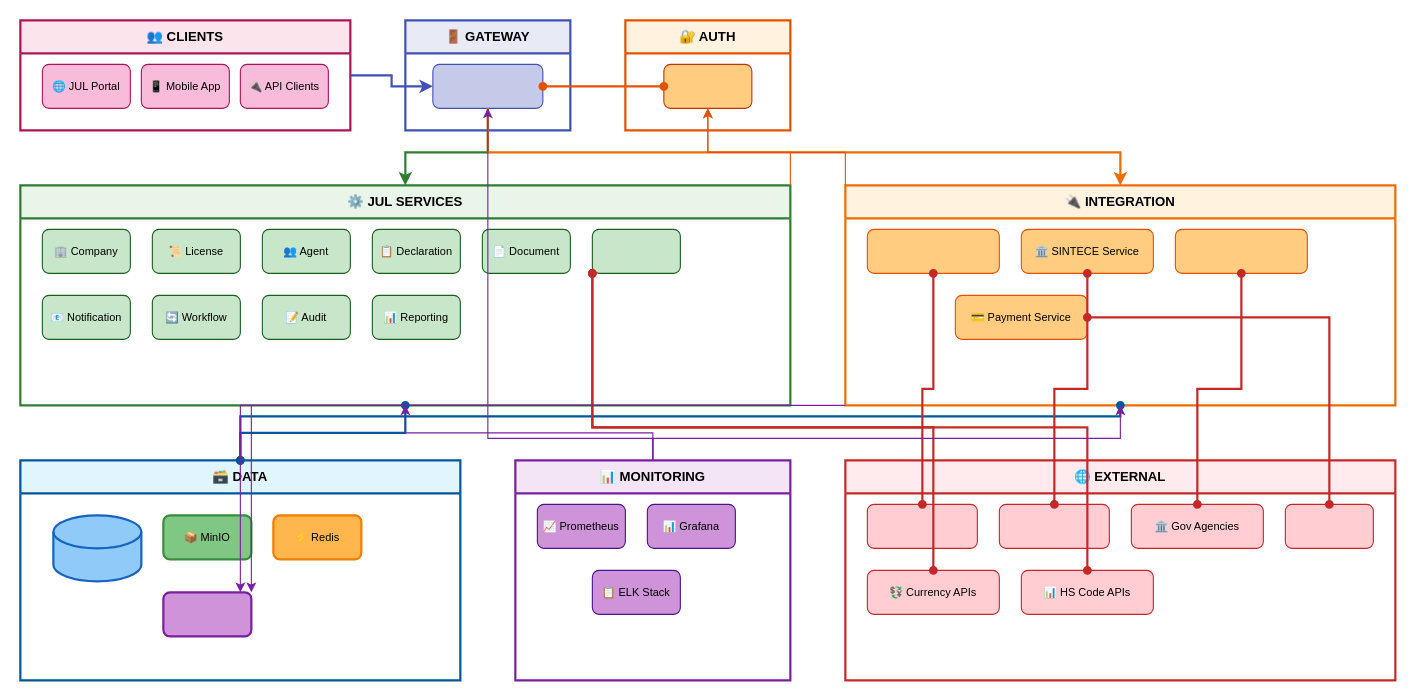
This 1415x700 diagram has some shape labels left out. The shapes that lost their labels are listed below. From the top down, each one's centre as x and y in pixels, then its label:
At pixel 487 85: "🦍 Kong Gateway".
At pixel 707 85: "🔐 Keycloak".
At pixel 635 250: "🗂️ Master Data".
At pixel 932 250: "🏛️ ASYCUDA Service".
At pixel 1240 250: "🏛️ OGA Service".
At pixel 921 525: "🏛️ ASYCUDA".
At pixel 1053 525: "🏛️ SINTECE".
At pixel 1328 525: "🏦 Banks".
At pixel 97 548: "🗃️ PostgreSQL".
At pixel 207 614: "🐰 RabbitMQ".
